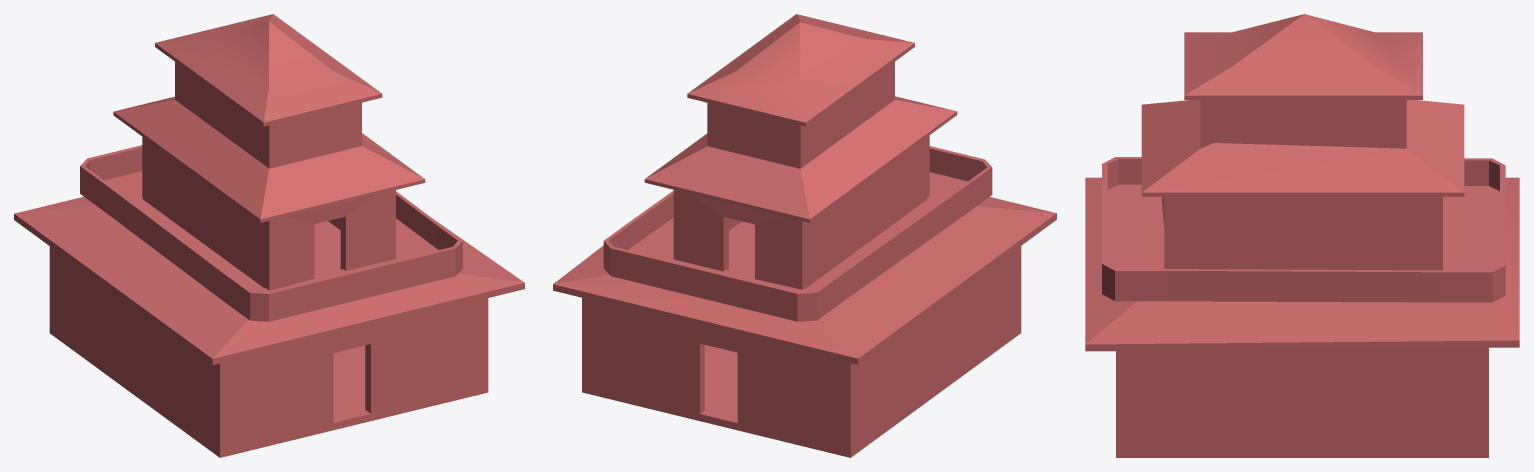
The model's file is House_3_CollMesh.fbx.
3 views of the same model, side by side, from view 1: azimuth 30°, elevation 25°; view 2: azimuth 150°, elevation 25°; view 3: azimuth 270°, elevation 25° (orthographic). The views are drawn at different scales.
Visible parts, largest first — view 1: House_3_CollMesh; view 2: House_3_CollMesh; view 3: House_3_CollMesh.
Part boxes in pixels (x1=…): House_3_CollMesh: x1=14, y1=14, x2=524, y2=457; House_3_CollMesh: x1=553, y1=14, x2=1056, y2=457; House_3_CollMesh: x1=1085, y1=14, x2=1519, y2=457.
Size of the model in its own units: 0.1077 by 0.1122 by 0.1185.
